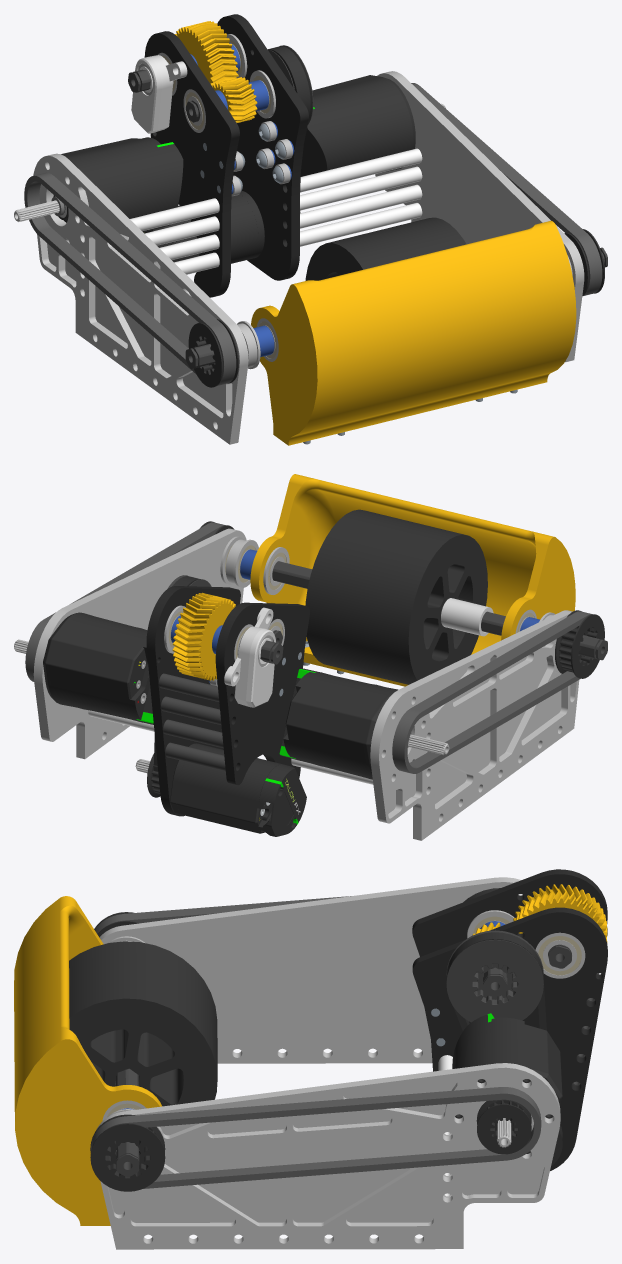
The picture shows the model from 3 angles, top to bottom: view 1: azimuth 30°, elevation 25°; view 2: azimuth 150°, elevation 25°; view 3: azimuth 270°, elevation 25°; orthographic projection. The views are drawn at different scales.
Visible parts, largest first — view 1: Part 57, Part 25, Kraken X60 Brushless Motor (×2), Part 9, ROUND Spacer 3.618 in (×8), 102T REF BELT (×2), Part 10, Part 11, 4" Solid Urethane Wheel (45A, 1.5" Wide, 1/2" Hex Bore) (×2), id215, Spur gear (40 teeth), Kraken X44 Brushless Motor (+5 smaller); view 2: 4" Solid Urethane Wheel (45A, 1.5" Wide, 1/2" Hex Bore) (×2), Part 25, Kraken X60 Brushless Motor (×2), Part 57, Part 9, Part 11, Kraken X44 Brushless Motor, 102T REF BELT (×2), Part 10, ROUND Spacer 1.75 in (×4), Spur gear (40 teeth), id215 (+5 smaller); view 3: Part 9, Part 25, Part 57, 4" Solid Urethane Wheel (45A, 1.5" Wide, 1/2" Hex Bore) (×2), Part 10, 102T REF BELT (×2), 32t Custom HTD 5mm Pulley (0.375" Wide, 1/2" Hex Bore w/ TTB, Kraken X60 Brushless Motor, Part 11, 24t Custom HTD 5mm Pulley (0.375" Wide, 1/2" Hex Bore w/ TTB, 17t Custom HTD 5mm Pulley (0.375" Wide, SplineXS Insert), Spur gear (40 teeth) (+4 smaller).
Part boxes in pixels (x1,y1,x2,y2): Part 57: (251,220,576,445); Part 25: (33,153,248,444); Kraken X60 Brushless Motor (×2): (14,75,445,232); Part 9: (375,71,584,362); ROUND Spacer 3.618 in (×8): (130,148,422,274); 102T REF BELT (×2): (24,83,602,385); Part 10: (217,14,308,280); Part 11: (144,31,239,297); 4" Solid Urethane Wheel (45A, 1.5" Wide, 1/2" Hex Bore) (×2): (305,217,466,280); id215: (131,55,187,133); Spur gear (40 teeth): (175,21,238,87); Kraken X44 Brushless Motor: (143,191,300,263); 4" Solid Urethane Wheel (45A, 1.5" Wide, 1/2" Hex Bore) (×2): (305,509,487,684); Part 25: (370,610,579,840); Kraken X60 Brushless Motor (×2): (14,612,449,779); Part 57: (250,474,575,686); Part 9: (33,528,246,759); Part 11: (215,602,309,785); Kraken X44 Brushless Motor: (135,743,306,836); 102T REF BELT (×2): (25,522,592,773); Part 10: (146,586,240,816); ROUND Spacer 1.75 in (×4): (159,673,225,771); Spur gear (40 teeth): (172,592,235,680); id215: (224,607,275,707); Part 9: (96,1063,560,1249); Part 25: (99,877,521,1063); Part 57: (14,896,161,1225); 4" Solid Urethane Wheel (45A, 1.5" Wide, 1/2" Hex Bore) (×2): (69,941,217,1106); Part 10: (412,907,607,1170); 102T REF BELT (×2): (91,896,541,1188); 32t Custom HTD 5mm Pulley (0.375" Wide, 1/2" Hex Bore w/ TTB: (446,930,543,1022); Kraken X60 Brushless Motor: (452,1013,562,1153); Part 11: (412,869,607,956); 24t Custom HTD 5mm Pulley (0.375" Wide, 1/2" Hex Bore w/ TTB: (90,1114,165,1191); 17t Custom HTD 5mm Pulley (0.375" Wide, SplineXS Insert): (476,1099,531,1154); Spur gear (40 teeth): (513,884,607,942).
Bounding box in the file's own units: 0.3157 × 0.1695 × 0.3341.
